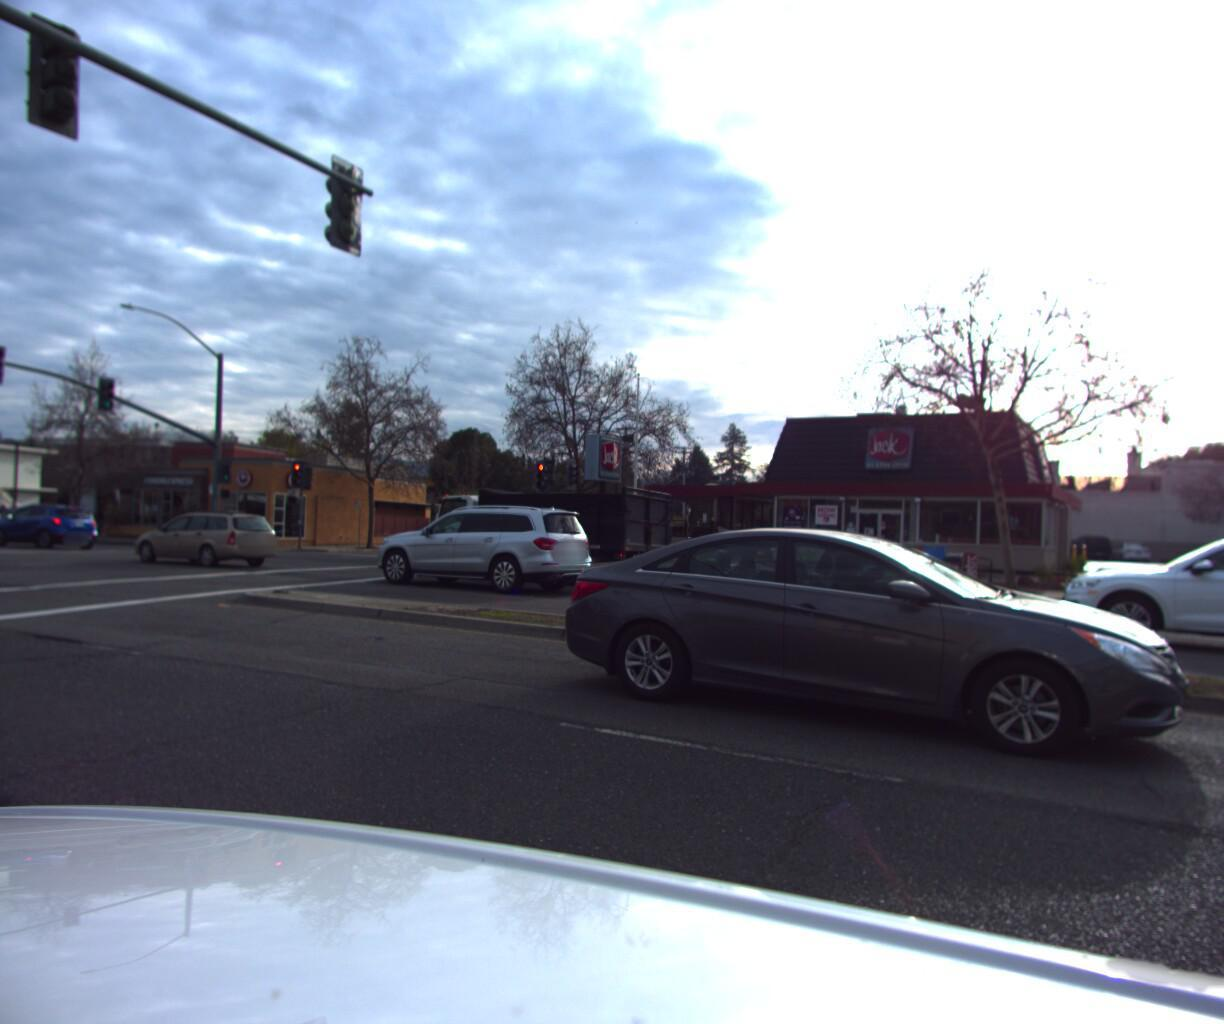car: (544, 519, 1199, 781), (1061, 516, 1224, 664), (365, 501, 594, 594), (120, 508, 279, 568), (0, 506, 103, 550), (0, 508, 73, 547), (0, 508, 4, 533)
truck: (412, 479, 678, 593)
